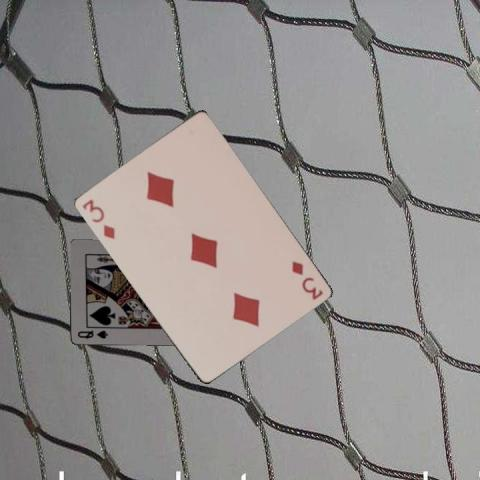3d: (79, 196, 116, 241), (288, 258, 324, 301)
Qs: (74, 327, 108, 340)
